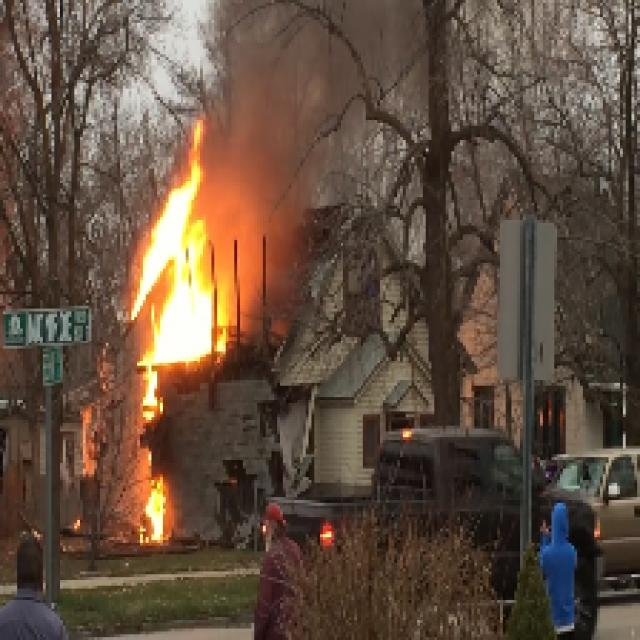fire: (142, 200, 218, 367)
smoke: (220, 62, 311, 288)
